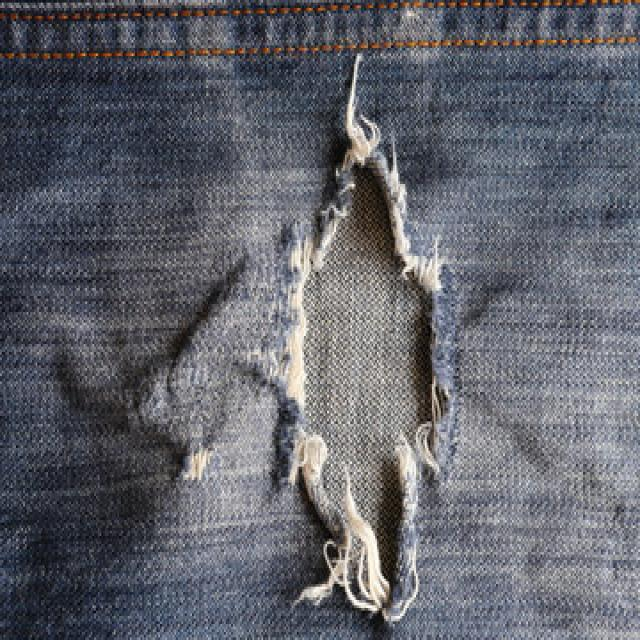Hole: (290, 55, 457, 624)
